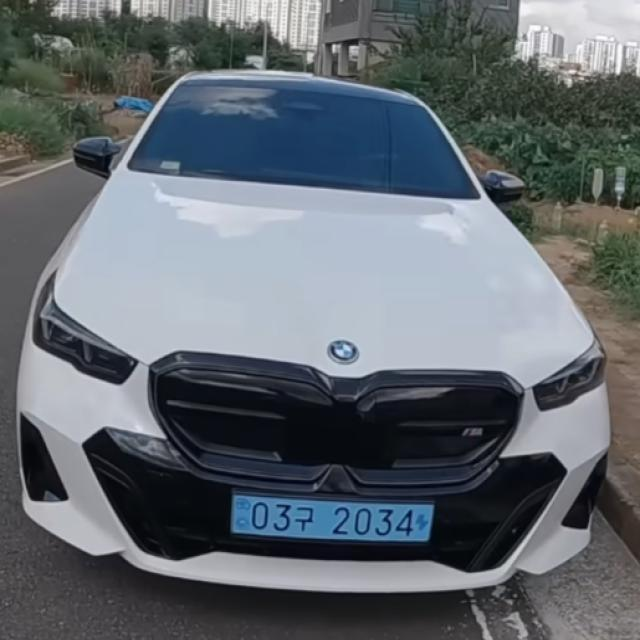car: (211, 479, 447, 558)
carev: (227, 490, 254, 539), (413, 500, 436, 546)
